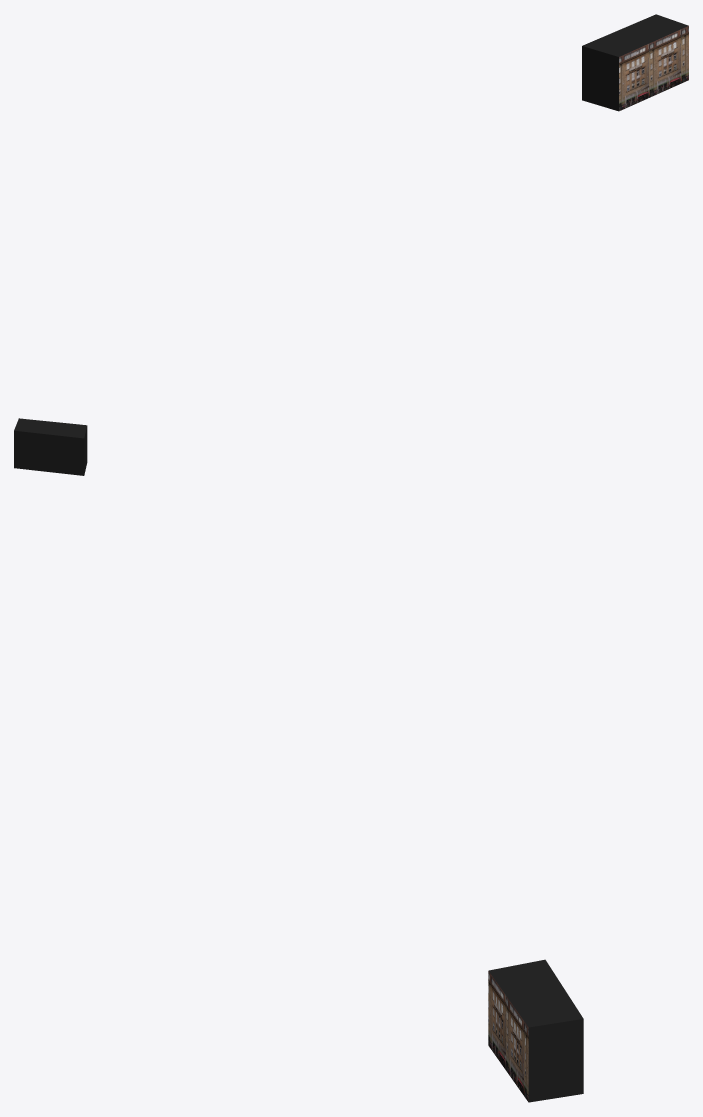
The model's file is B_Werth_71_73.FBX.
3 views of the same model, one above another, from view 1: azimuth 30°, elevation 25°; view 2: azimuth 150°, elevation 25°; view 3: azimuth 270°, elevation 25° (orthographic). The views are drawn at different scales.
Visible parts, largest first — view 1: B_Werth_71_73, B_Werth_71_73_Front; view 2: B_Werth_71_73; view 3: B_Werth_71_73, B_Werth_71_73_Front.
Boxes of the visible parts, x1,y1,x2,y2 form: B_Werth_71_73: (582,14,688,111); B_Werth_71_73_Front: (619,26,688,111); B_Werth_71_73: (14,418,87,475); B_Werth_71_73: (489,959,583,1102); B_Werth_71_73_Front: (488,971,528,1101).
Bounding box in the file's own units: 25327 × 1600 × 8968.
Materials: 3 (1 with a texture image).
